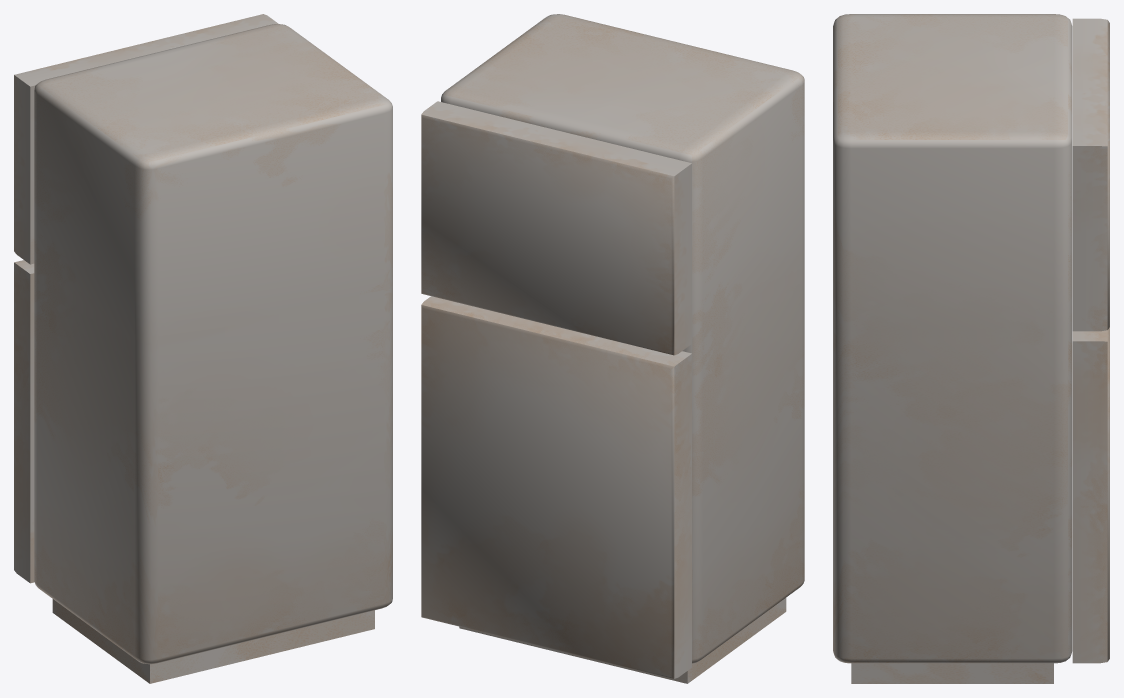
Rendered from Kitchen_Fridge.fbx.
The picture shows the model from 3 angles, left to right: view 1: azimuth 30°, elevation 25°; view 2: azimuth 150°, elevation 25°; view 3: azimuth 270°, elevation 25°; orthographic projection. The views are drawn at different scales.
Visible parts, largest first — view 1: Fridge, Box001, Box002; view 2: Fridge, Box002, Box001; view 3: Fridge, Box002, Box001.
Part boxes in pixels (bbox=[...]): Fridge: bbox=[34, 24, 392, 683]; Box001: bbox=[14, 14, 278, 264]; Box002: bbox=[14, 260, 34, 583]; Fridge: bbox=[441, 14, 804, 683]; Box002: bbox=[421, 296, 691, 678]; Box001: bbox=[421, 101, 691, 355]; Fridge: bbox=[833, 14, 1072, 683]; Box002: bbox=[1072, 327, 1109, 663]; Box001: bbox=[1072, 18, 1109, 331].
Bounding box in the file's own units: 986 × 1957 × 889.
